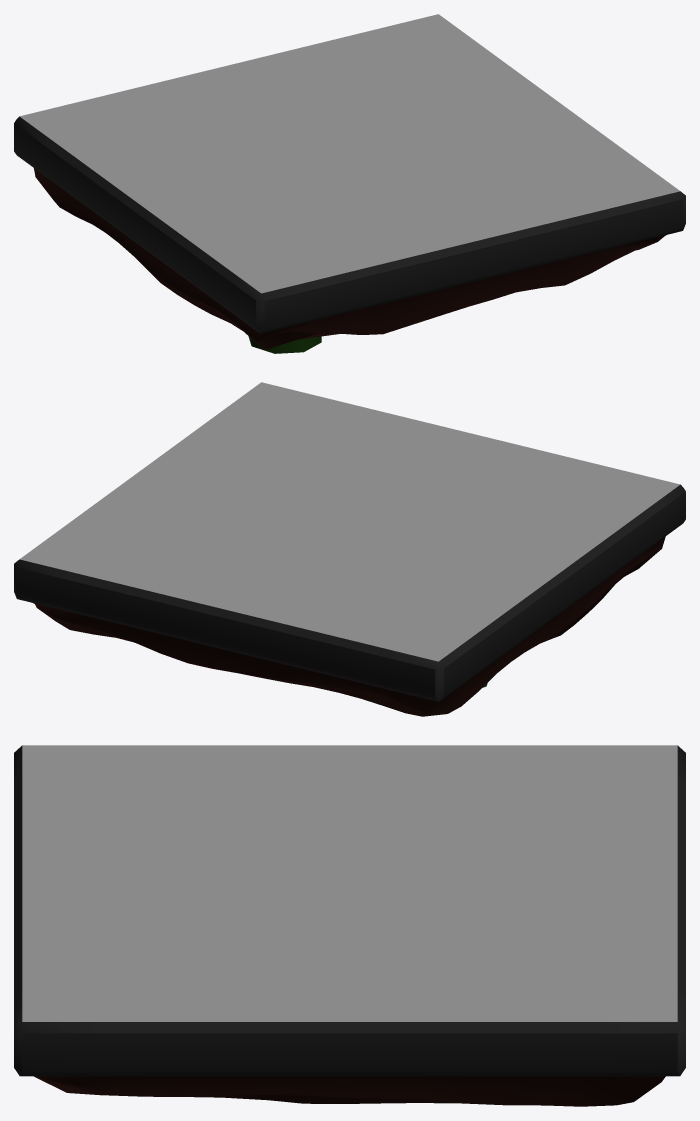
File: MET_PlatformeTuyau_Petit_Pierre_02_LOD0.fbx
3 renders of one model, top to bottom at view 1: azimuth 30°, elevation 25°; view 2: azimuth 150°, elevation 25°; view 3: azimuth 270°, elevation 25°, orthographic. The views are drawn at different scales.
Visible parts, largest first — view 1: MET_PlatformeTuyau_Petit_Pierre_02_LOD0; view 2: MET_PlatformeTuyau_Petit_Pierre_02_LOD0; view 3: MET_PlatformeTuyau_Petit_Pierre_02_LOD0.
Boxes of the visible parts, x1=… form: MET_PlatformeTuyau_Petit_Pierre_02_LOD0: x1=14, y1=14, x2=685, y2=353; MET_PlatformeTuyau_Petit_Pierre_02_LOD0: x1=14, y1=382, x2=685, y2=716; MET_PlatformeTuyau_Petit_Pierre_02_LOD0: x1=14, y1=745, x2=685, y2=1106.
Size of the model in its own units: 400 by 133 by 400.
